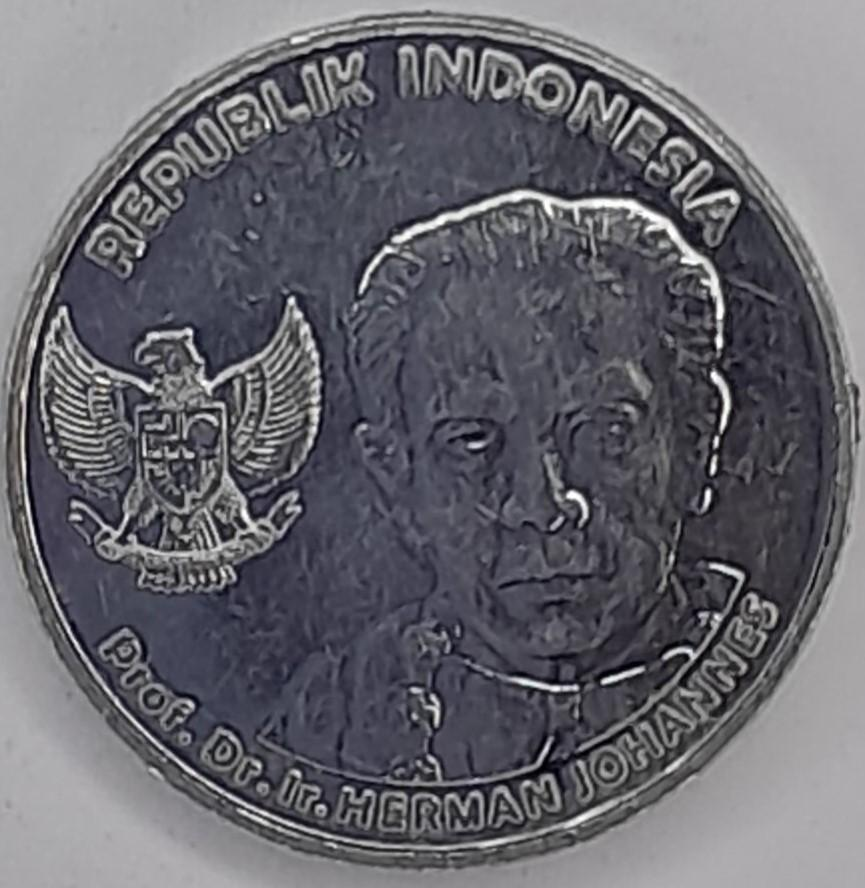coin_100_e2016: (0, 4, 864, 871)
